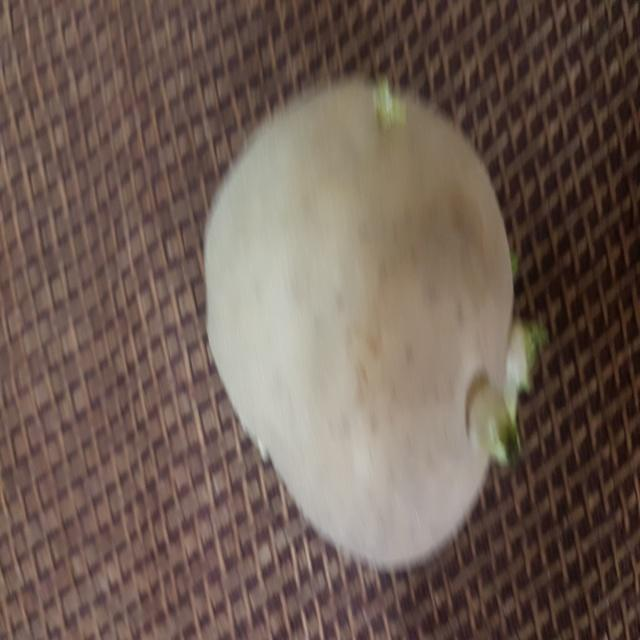potato: (193, 74, 547, 576)
